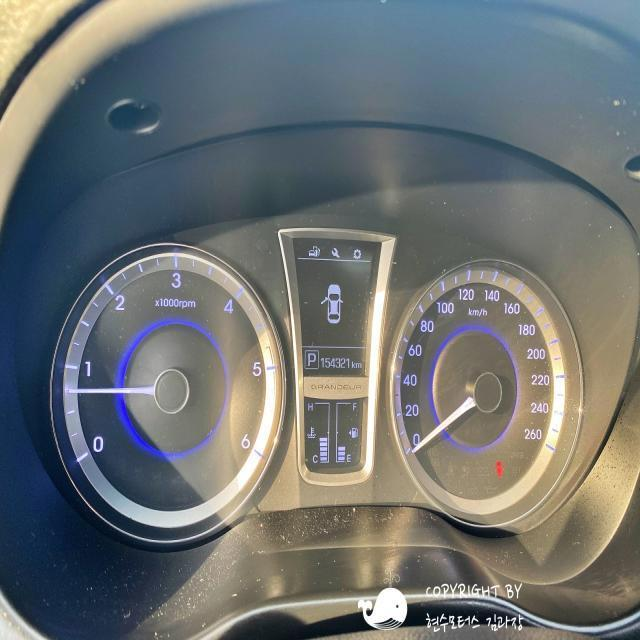Doors: (494, 460, 504, 478)
